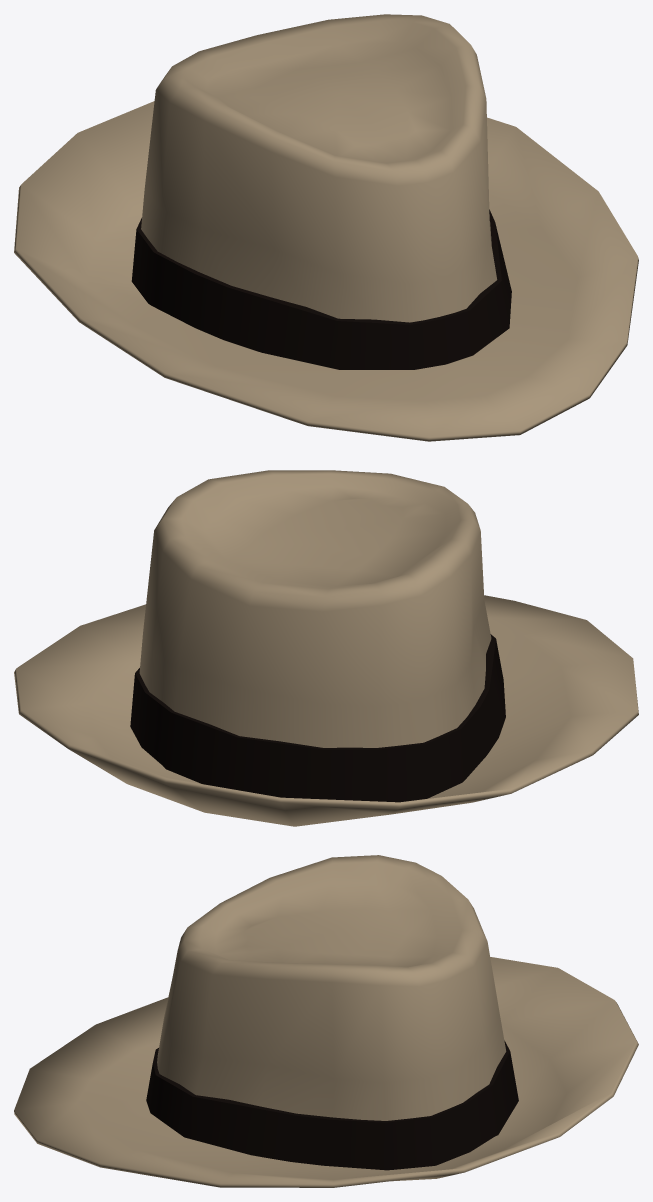
File: chapeau.obj
3 views of the same model, one above another, from view 1: azimuth 30°, elevation 25°; view 2: azimuth 150°, elevation 25°; view 3: azimuth 270°, elevation 25° (orthographic). The views are drawn at different scales.
Visible parts, largest first — view 1: chapeau_Plane, strip_Plane.001; view 2: chapeau_Plane, strip_Plane.001; view 3: chapeau_Plane, strip_Plane.001.
Part boxes in pixels (x1,y1,x2,y2): chapeau_Plane: (14, 14, 638, 441); strip_Plane.001: (131, 209, 511, 369); chapeau_Plane: (14, 470, 638, 826); strip_Plane.001: (130, 634, 505, 802); chapeau_Plane: (14, 855, 638, 1187); strip_Plane.001: (146, 1040, 518, 1170).
Bounding box in the file's own units: 36.1 × 15.05 × 42.42.
